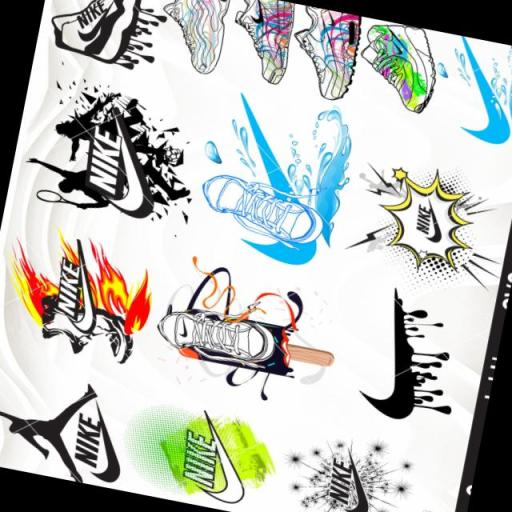Nike: (359, 283, 440, 426)
